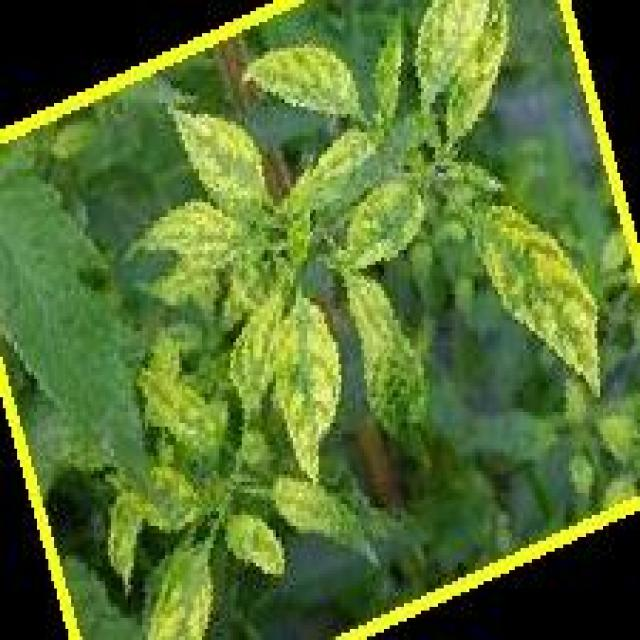Rust: (457, 194, 611, 390)
